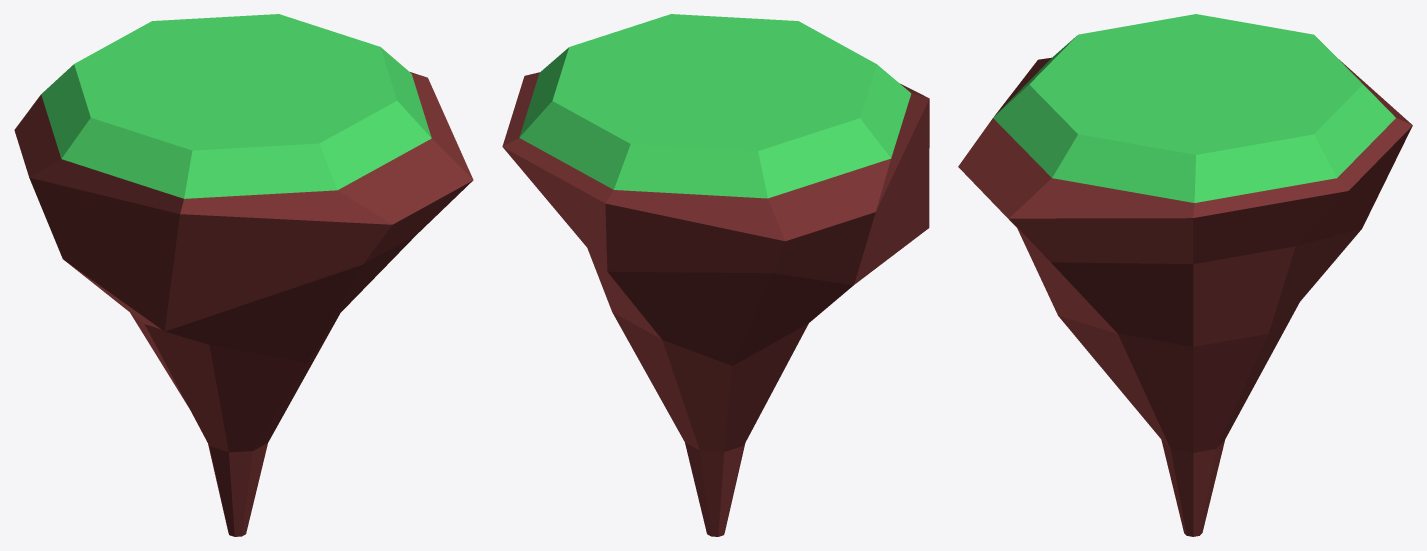
Rendered from Island1.fbx.
The picture shows the model from 3 angles, left to right: view 1: azimuth 30°, elevation 25°; view 2: azimuth 150°, elevation 25°; view 3: azimuth 270°, elevation 25°; orthographic projection.
Visible parts, largest first — view 1: Cylinder.002, Cylinder.003; view 2: Cylinder.002, Cylinder.003; view 3: Cylinder.002, Cylinder.003.
Boxes of the visible parts, left/top/right/bottom form: Cylinder.002: left=14, top=72, right=473, bottom=536; Cylinder.003: left=41, top=14, right=431, bottom=198; Cylinder.002: left=502, top=72, right=929, bottom=536; Cylinder.003: left=519, top=14, right=911, bottom=198; Cylinder.002: left=958, top=57, right=1412, bottom=536; Cylinder.003: left=993, top=14, right=1395, bottom=202.
Bounding box in the file's own units: 972 × 1026 × 1116.
